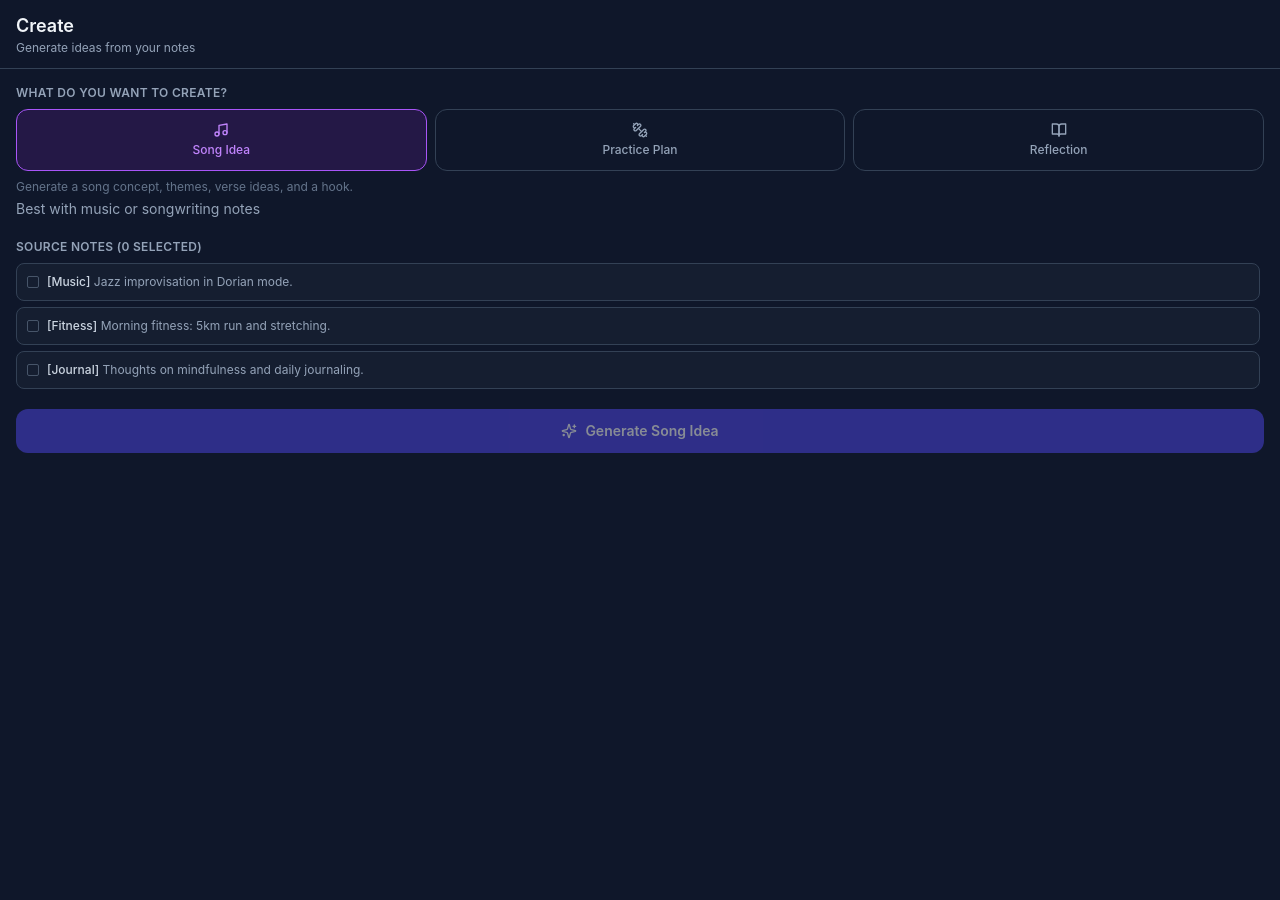
Test: CreatePage (Task 5.3) › Save as Note POSTs to /api/notes with the right payload
The image size is (1280, 900).
What coordinates should you click on to do the following:
click the button "[Music] Jazz improvisation in Dorian mode."
I would click on:
 (69, 282)
Its box is 16,263 -> 1260,301.
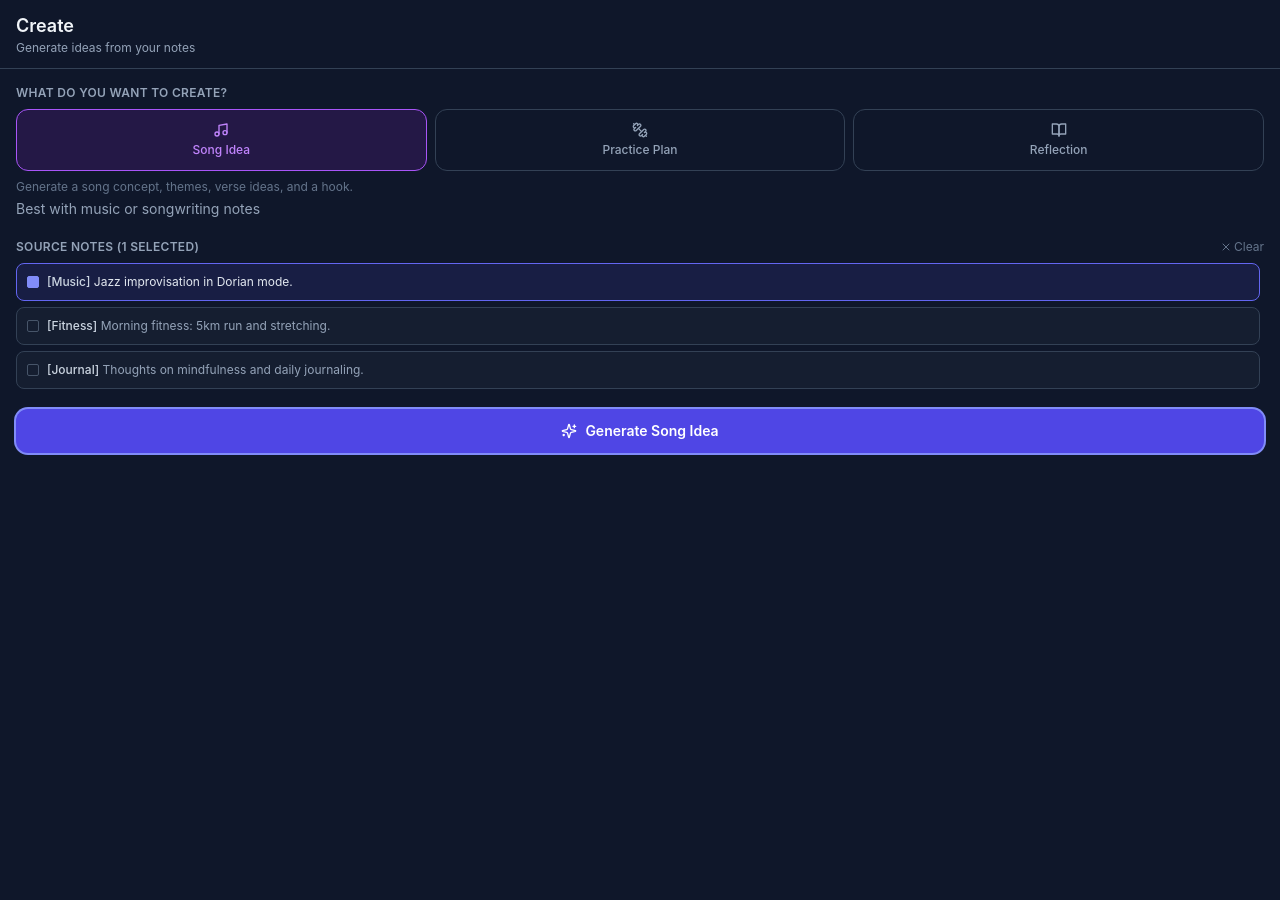
What coordinates should you click on to do the following:
click the button "Generate Song Idea"
I would click on:
 (640, 431)
Its box is 16,409 -> 1264,453.
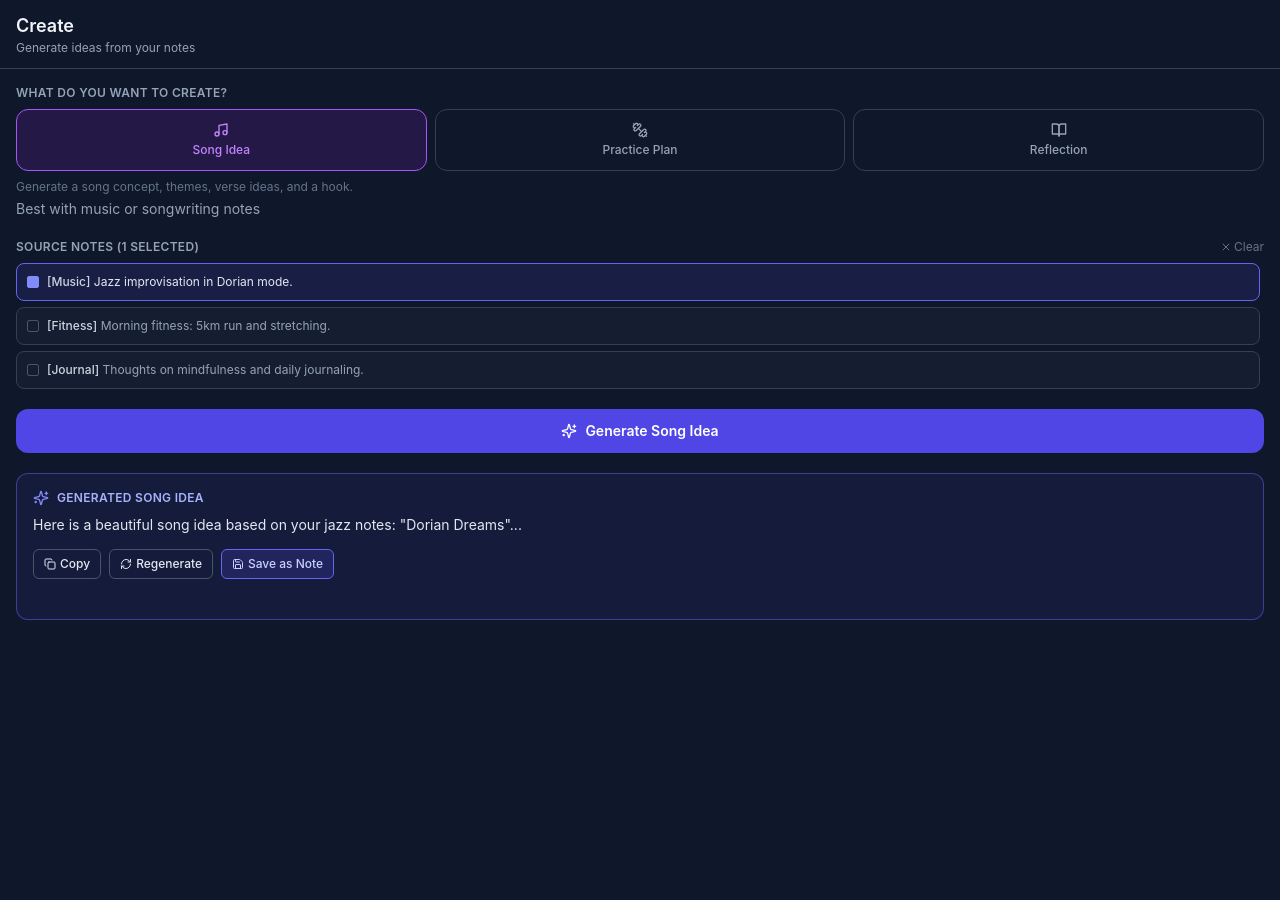
Check: the text "Dorian Dreams" is shown, box 33,516 -> 522,533
What coordinates should you click on to do the following:
click the button "Save as Note"
I would click on:
 (278, 564)
Its box is 221,549 -> 334,579.
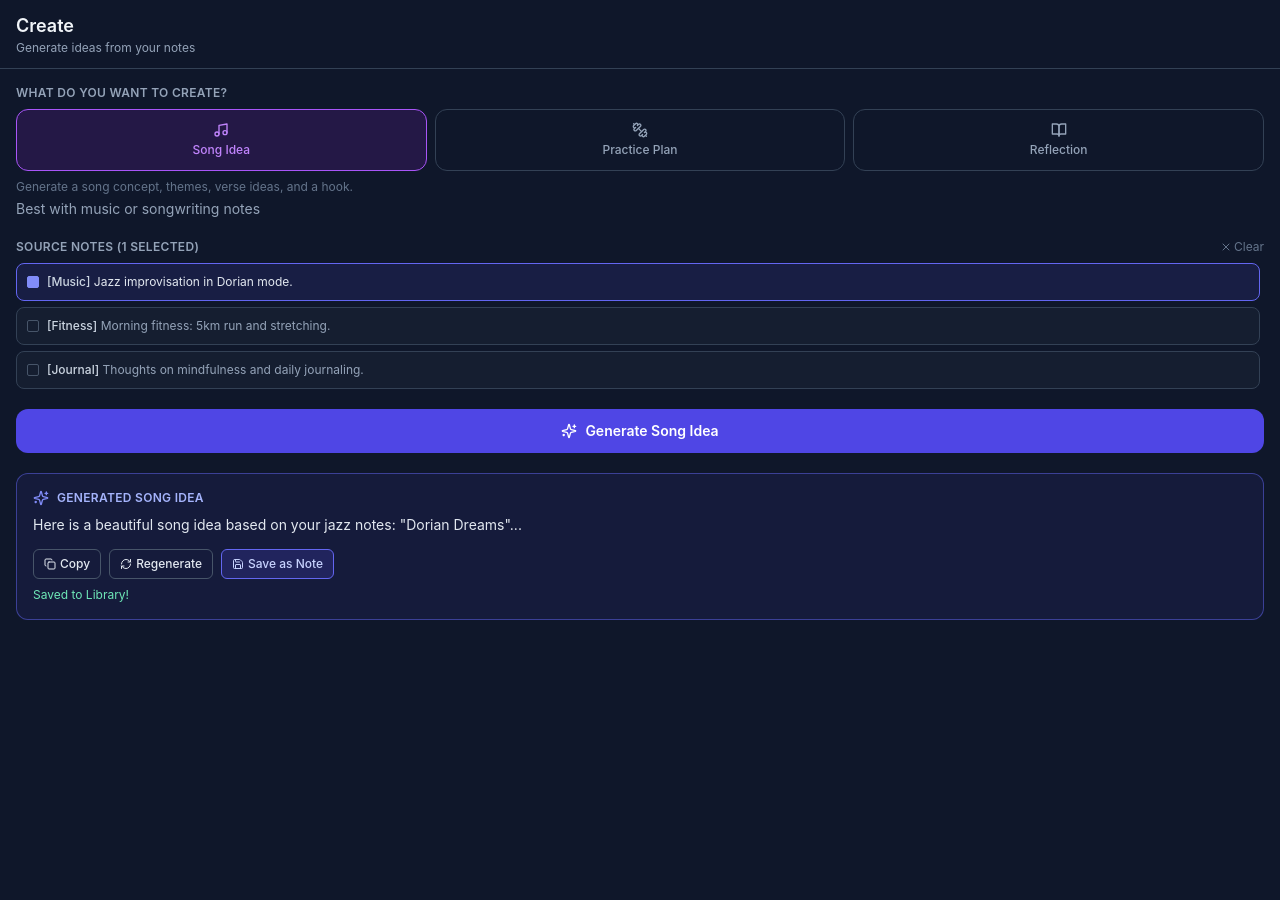
Check: the text "Dorian Dreams" reads "Here is a beautiful song idea based on your jazz notes: \"Dorian Dreams\"...", box 33,516 -> 522,533
Check: the text "Saved to Library" is shown, box 33,587 -> 129,602
